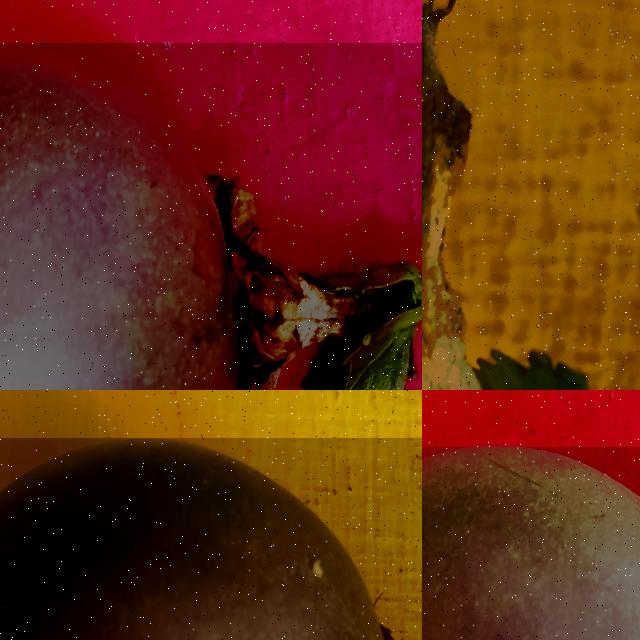Estado-2: (0, 43, 422, 390)
Estado-3: (0, 438, 393, 640)
Estado-4: (422, 446, 640, 640)
